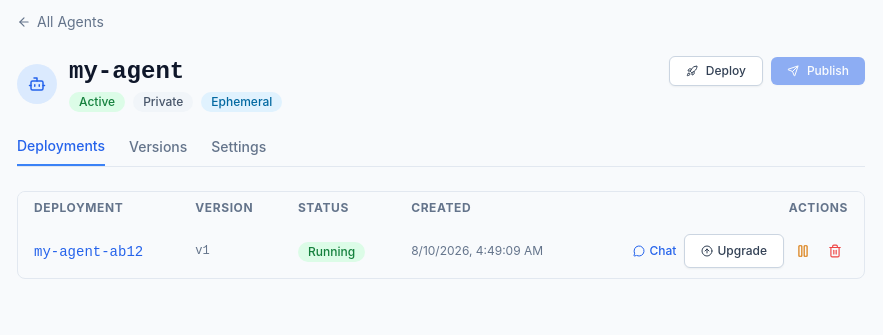
Test: AgentDetailPage — Sandbox Deployments tab › switches to the versions tab and shows version list
Expected: the link "my-agent-ab12" is shown, 34,244 -> 143,260
Step 1. Click the button "versions" → {"x": 158, "y": 151}, box 129,136 -> 187,166
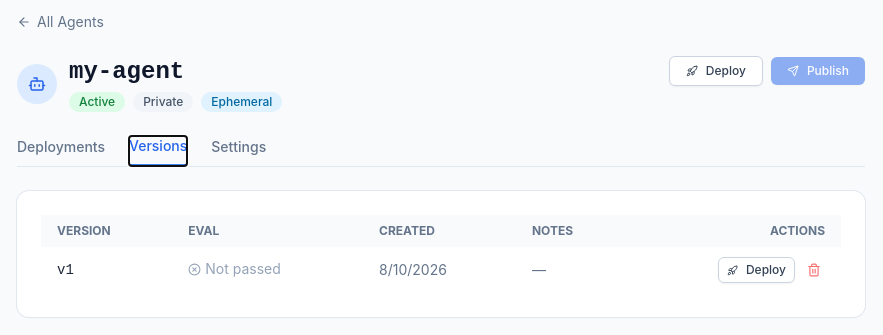
Expected: the text "v1" is shown, 41,247 -> 172,293
Expected: the column heading "Version" is shown, 41,215 -> 172,247
